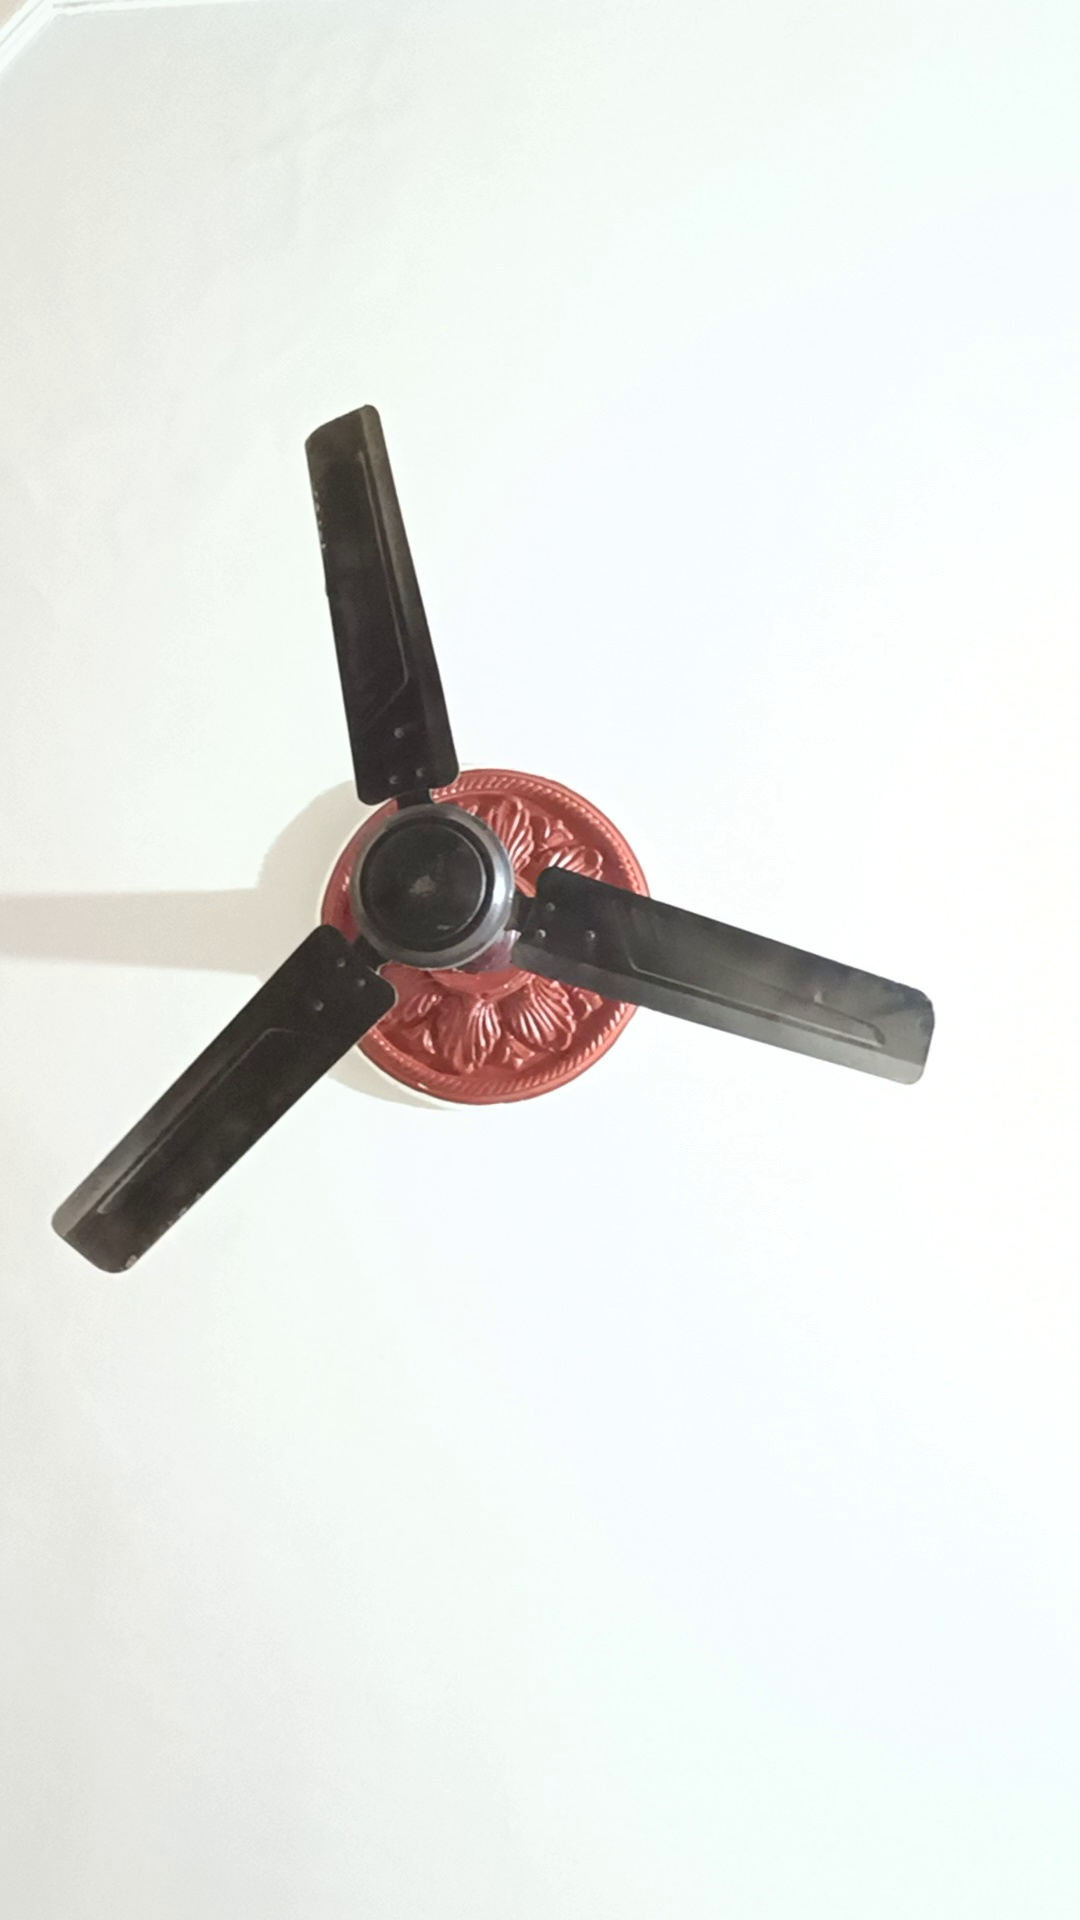fan: (1, 385, 945, 1288)
